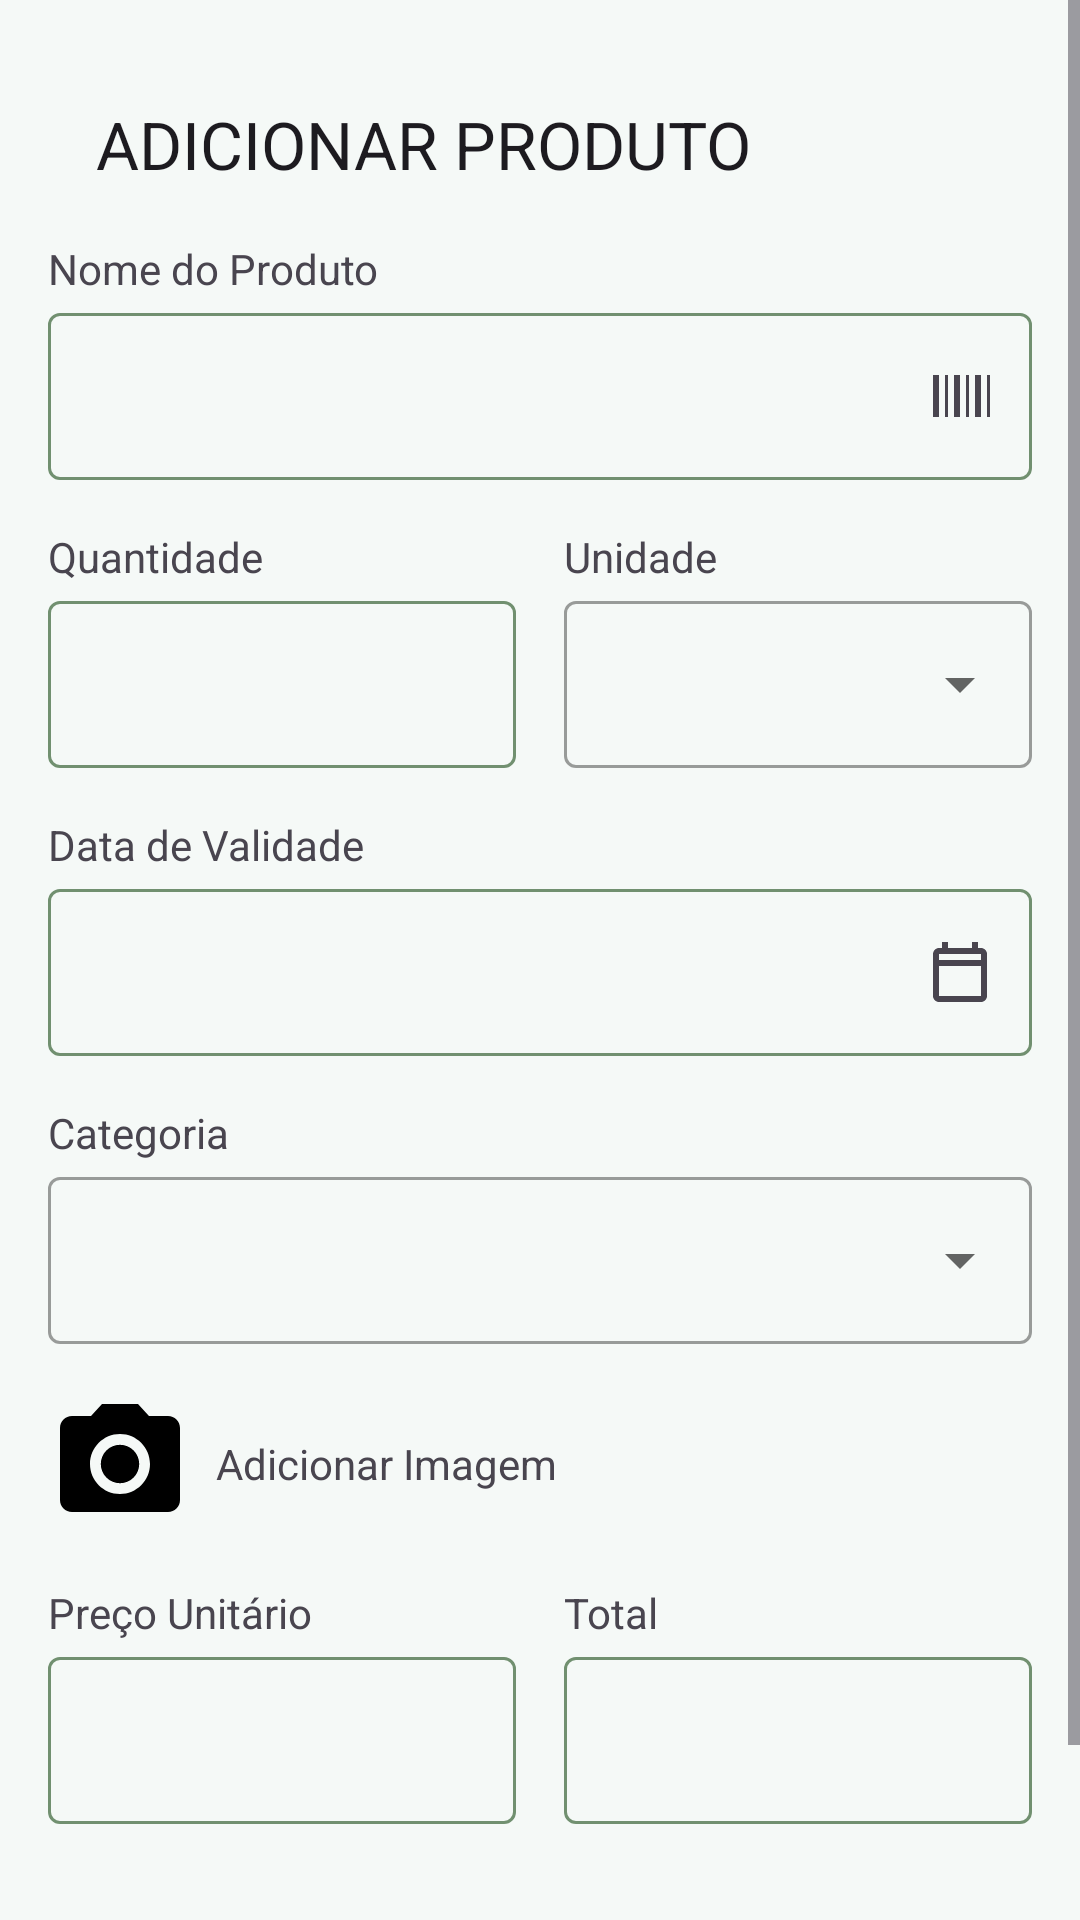

Point at icon controls on the screen. Image size 1080px×1920px, points as (x,y).
camera: (120,1458)
